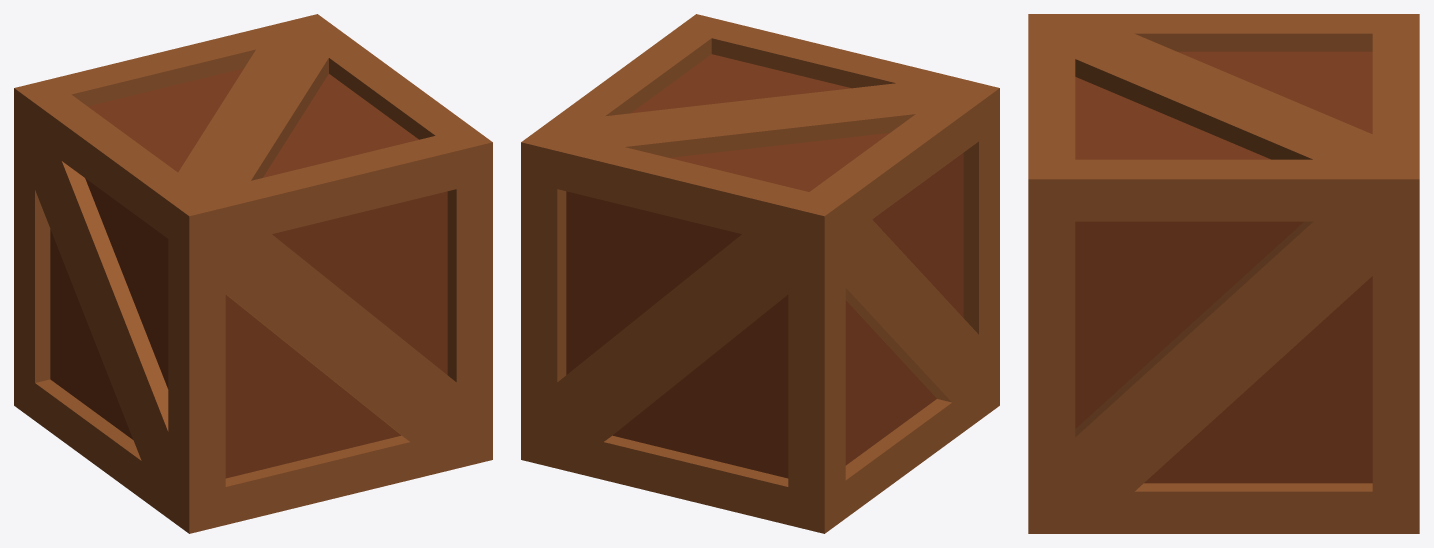
Rendered from Wooden_Crate.fbx.
The picture shows the model from 3 angles, left to right: view 1: azimuth 30°, elevation 25°; view 2: azimuth 150°, elevation 25°; view 3: azimuth 270°, elevation 25°; orthographic projection. The views are drawn at different scales.
Parts seen in each view (by area): view 1: Cube; view 2: Cube; view 3: Cube.
Part boxes in pixels (x1,y1,x2,y2): Cube: (14, 14, 492, 533); Cube: (521, 14, 999, 533); Cube: (1028, 14, 1419, 533).
Size of the model in its own units: 200 by 200 by 200.
